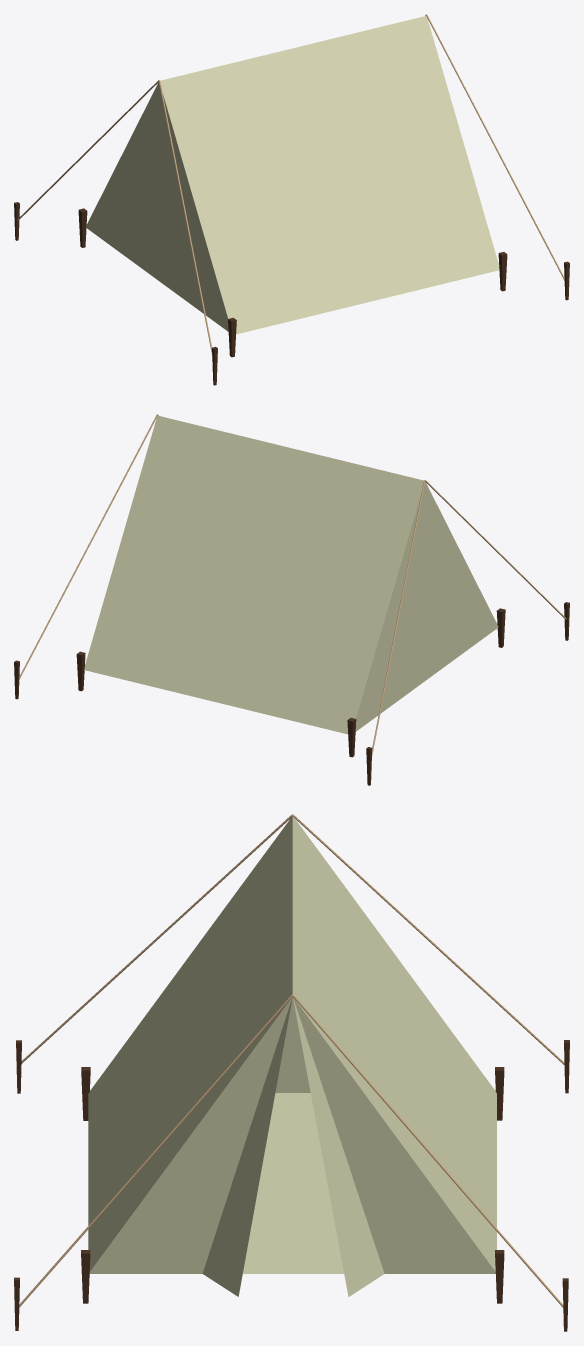
The model's file is Zelt.fbx.
The picture shows the model from 3 angles, top to bottom: view 1: azimuth 30°, elevation 25°; view 2: azimuth 150°, elevation 25°; view 3: azimuth 270°, elevation 25°; orthographic projection. The views are drawn at different scales.
Parts seen in each view (by area): view 1: Zelt, Zylinder_2; view 2: Zelt, Zylinder_2; view 3: Zelt, Zylinder_2.
Part boxes in pixels (x1,y1,x2,y2): Zelt: (86,16,499,334); Zylinder_2: (14,14,569,385); Zelt: (84,415,498,734); Zylinder_2: (14,414,569,785); Zelt: (88,816,496,1296); Zylinder_2: (14,814,569,1331).
Bounding box in the file's own units: 199 × 119 × 194.
